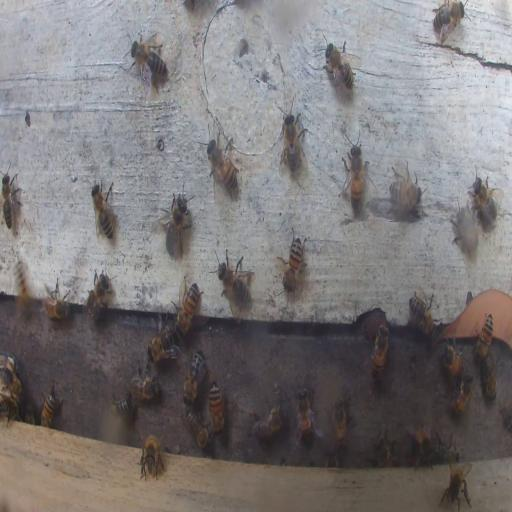bee: (161, 188, 192, 262), (214, 250, 253, 308), (130, 38, 168, 89), (207, 134, 239, 194), (468, 170, 499, 228), (322, 41, 356, 93), (389, 167, 423, 219), (279, 112, 307, 174), (440, 461, 474, 511), (281, 230, 305, 298), (174, 280, 202, 338), (84, 266, 114, 320), (250, 398, 284, 441), (408, 290, 438, 336), (431, 2, 465, 42), (92, 180, 114, 240), (184, 350, 207, 405), (184, 405, 212, 450), (13, 258, 34, 317), (128, 363, 158, 404), (295, 389, 317, 444), (147, 326, 179, 363), (348, 134, 363, 212), (42, 280, 70, 320), (1, 169, 19, 230), (140, 434, 164, 478), (456, 205, 478, 253), (370, 323, 389, 378), (40, 381, 62, 428), (474, 314, 494, 362), (451, 373, 472, 416), (1, 362, 23, 402), (208, 380, 224, 434), (332, 395, 348, 449), (441, 345, 464, 378), (428, 437, 459, 461), (374, 434, 397, 466), (482, 352, 497, 400), (0, 396, 21, 426), (111, 393, 131, 418), (275, 384, 287, 425), (325, 451, 338, 467)
